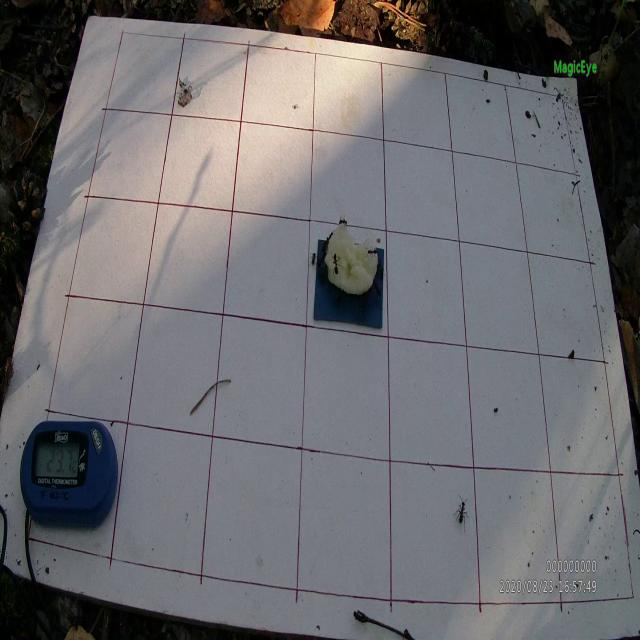Ant: (453, 494, 471, 532), (330, 250, 344, 282), (374, 277, 384, 302), (309, 250, 319, 270), (365, 244, 377, 260), (339, 217, 347, 230)
